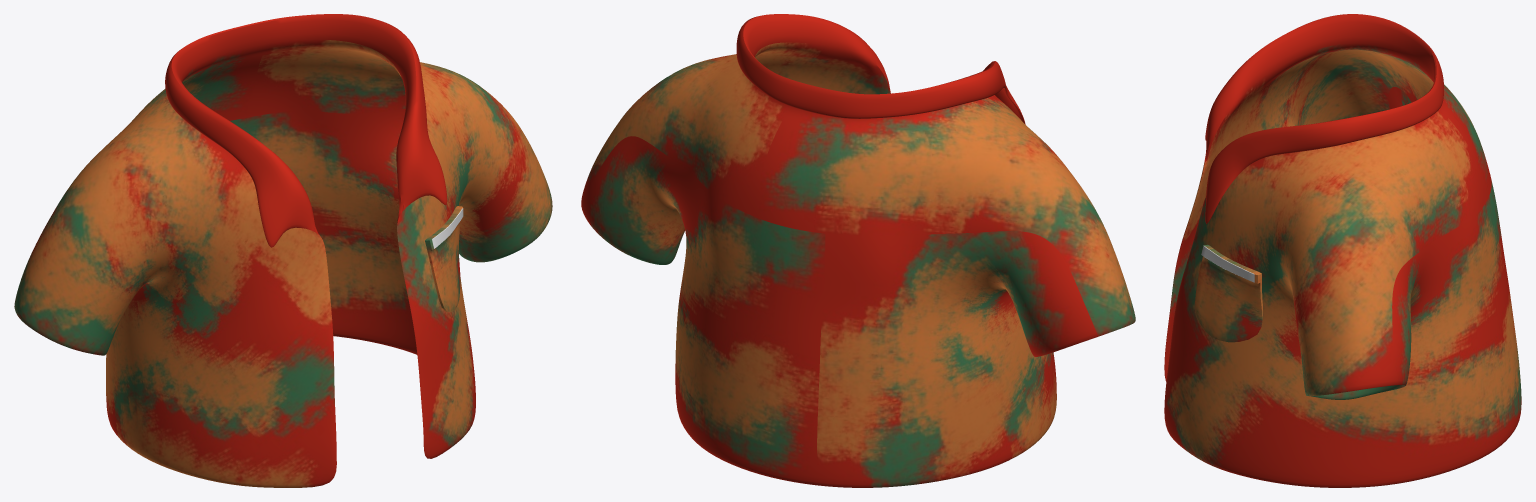
The model's file is Aloha.gltf.
3 renders of one model, left to right at view 1: azimuth 30°, elevation 25°; view 2: azimuth 150°, elevation 25°; view 3: azimuth 270°, elevation 25°, orthographic. The views are drawn at different scales.
Visible parts, largest first — view 1: cloth2-PBR, cloth2-PBR.1; view 2: cloth2-PBR; view 3: cloth2-PBR, cloth2-PBR.1, cloth2-PBR.2.
Part boxes in pixels (box(x1,y1,x2,y2)): cloth2-PBR: box(14, 14, 552, 487); cloth2-PBR.1: box(425, 206, 462, 312); cloth2-PBR: box(581, 14, 1135, 487); cloth2-PBR: box(1164, 14, 1521, 487); cloth2-PBR.1: box(1195, 244, 1262, 342); cloth2-PBR.2: box(1201, 245, 1254, 282).
Bounding box in the file's own units: 9.82 × 6.32 × 5.89.
Materials: 3 (2 with a texture image).
